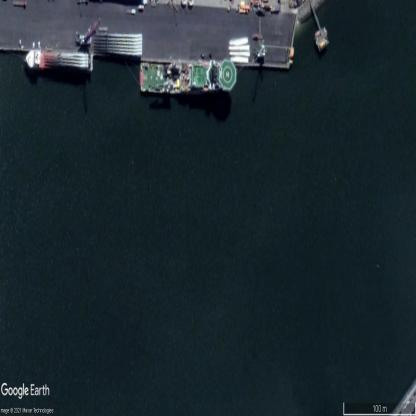ship: (139, 61, 236, 93), (22, 51, 92, 70)
